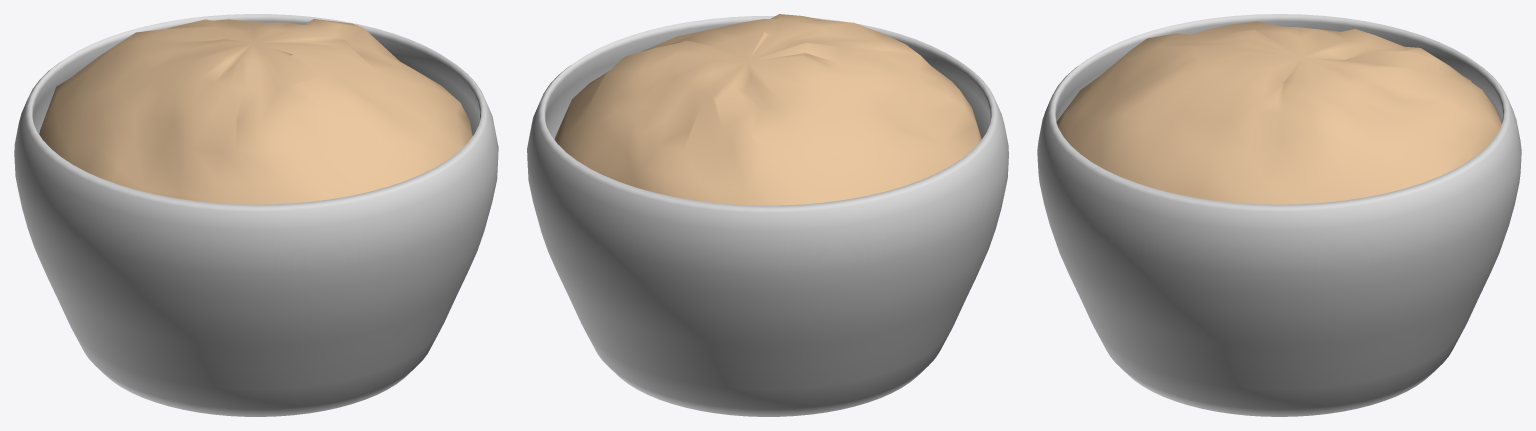
The model's file is dough_bowl.fbx.
3 views of the same model, side by side, from view 1: azimuth 30°, elevation 25°; view 2: azimuth 150°, elevation 25°; view 3: azimuth 270°, elevation 25° (orthographic).
Visible parts, largest first — view 1: Sphere, Sphere.001; view 2: Sphere, Sphere.001; view 3: Sphere, Sphere.001.
Part boxes in pixels (<box>): Sphere: <box>14,14,498,416</box>; Sphere.001: <box>39,19,472,204</box>; Sphere: <box>527,16,1008,416</box>; Sphere.001: <box>554,14,981,205</box>; Sphere: <box>1037,14,1521,416</box>; Sphere.001: <box>1056,21,1501,204</box>.
Size of the model in its own units: 39.86 by 27.87 by 39.86.
